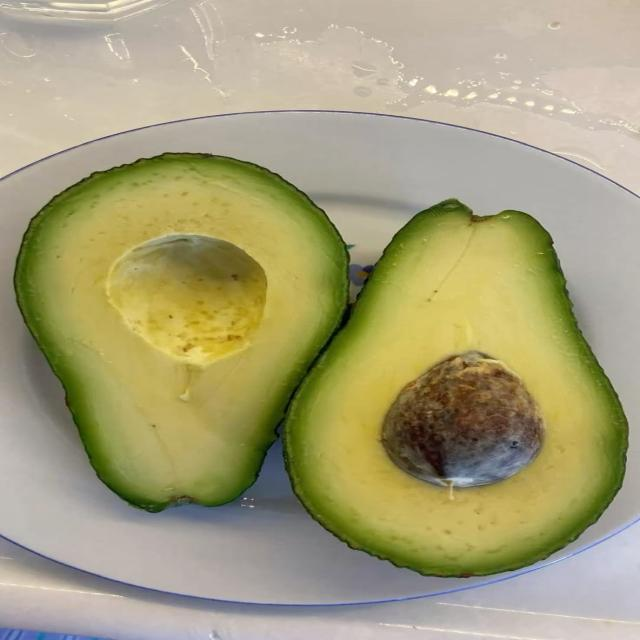avocado: (286, 201, 626, 576), (15, 154, 347, 511)
